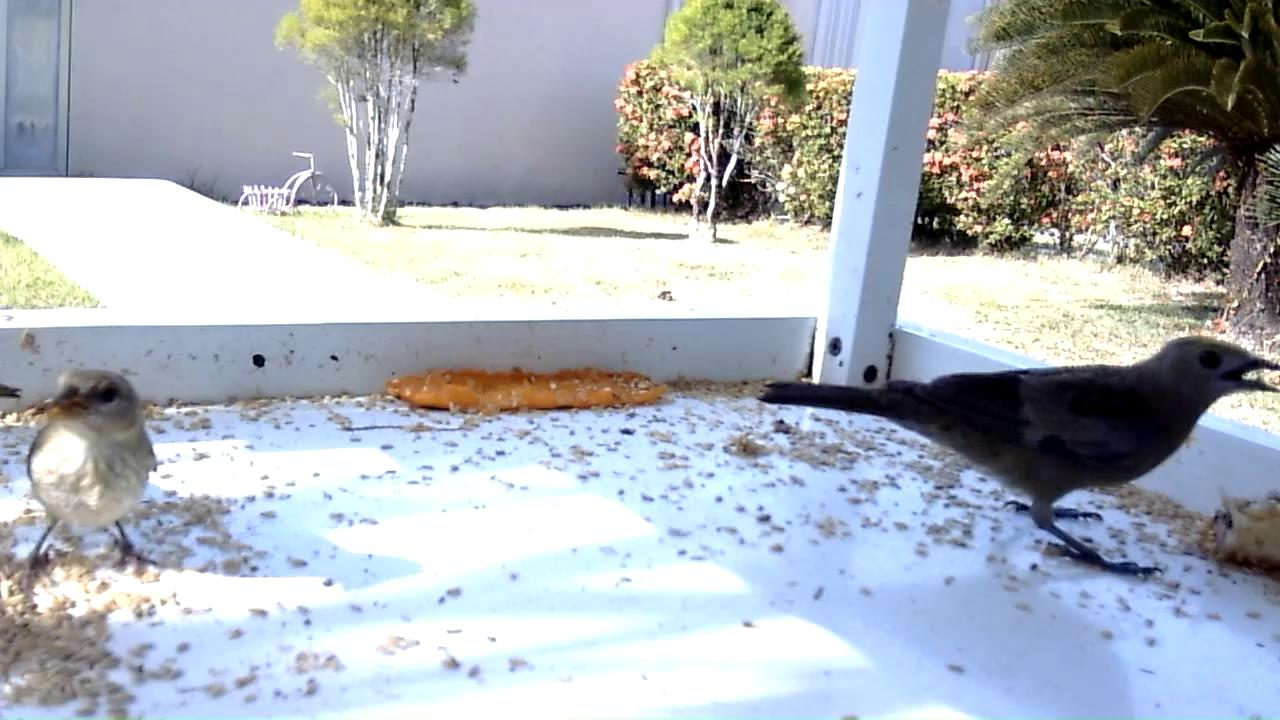canario_do_amazonas: (25, 370, 161, 580)
sanhaco_do_coqueiro: (760, 337, 1280, 580)
